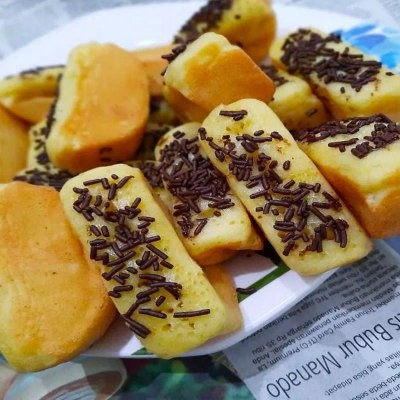pukis: (23, 29, 152, 168)
